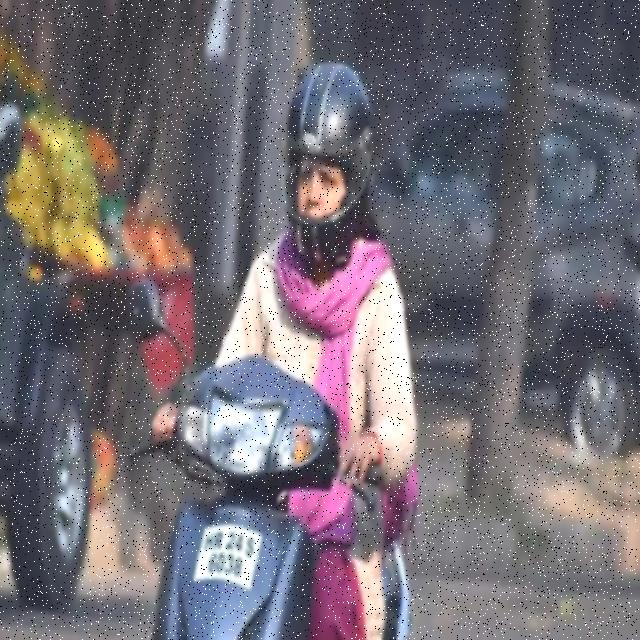not_triplets: (143, 39, 407, 640)
with-helmet: (284, 53, 372, 262)
